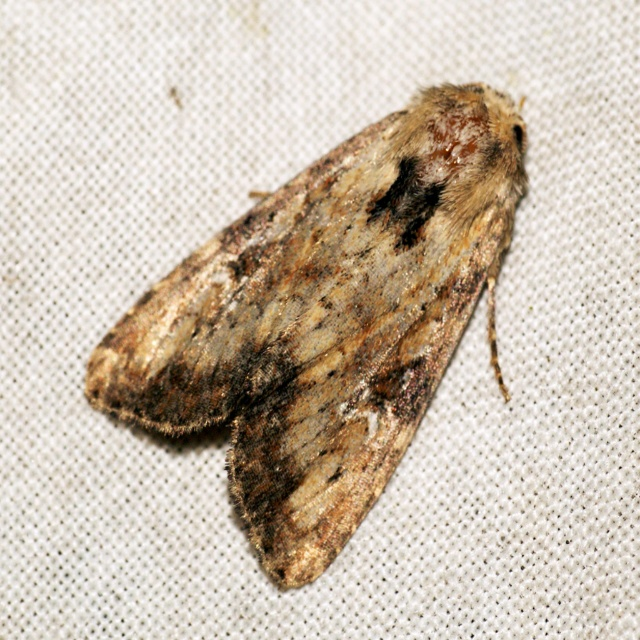Moths and butterflies: (81, 77, 532, 593)
